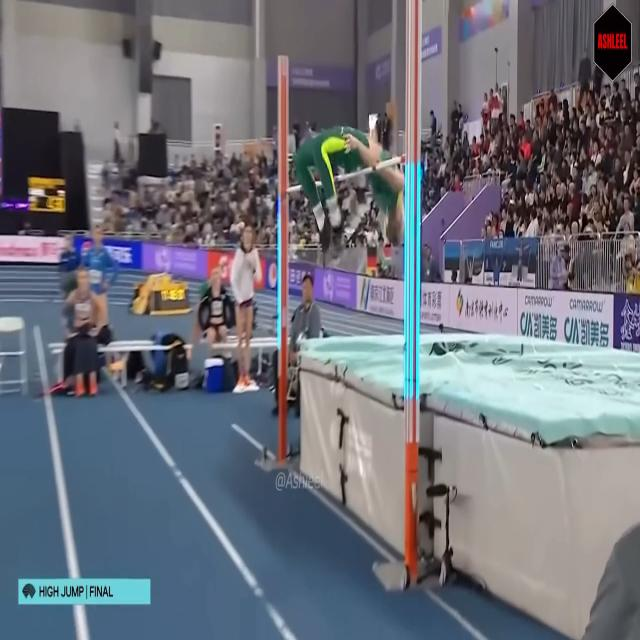jump: (294, 126, 404, 254)
